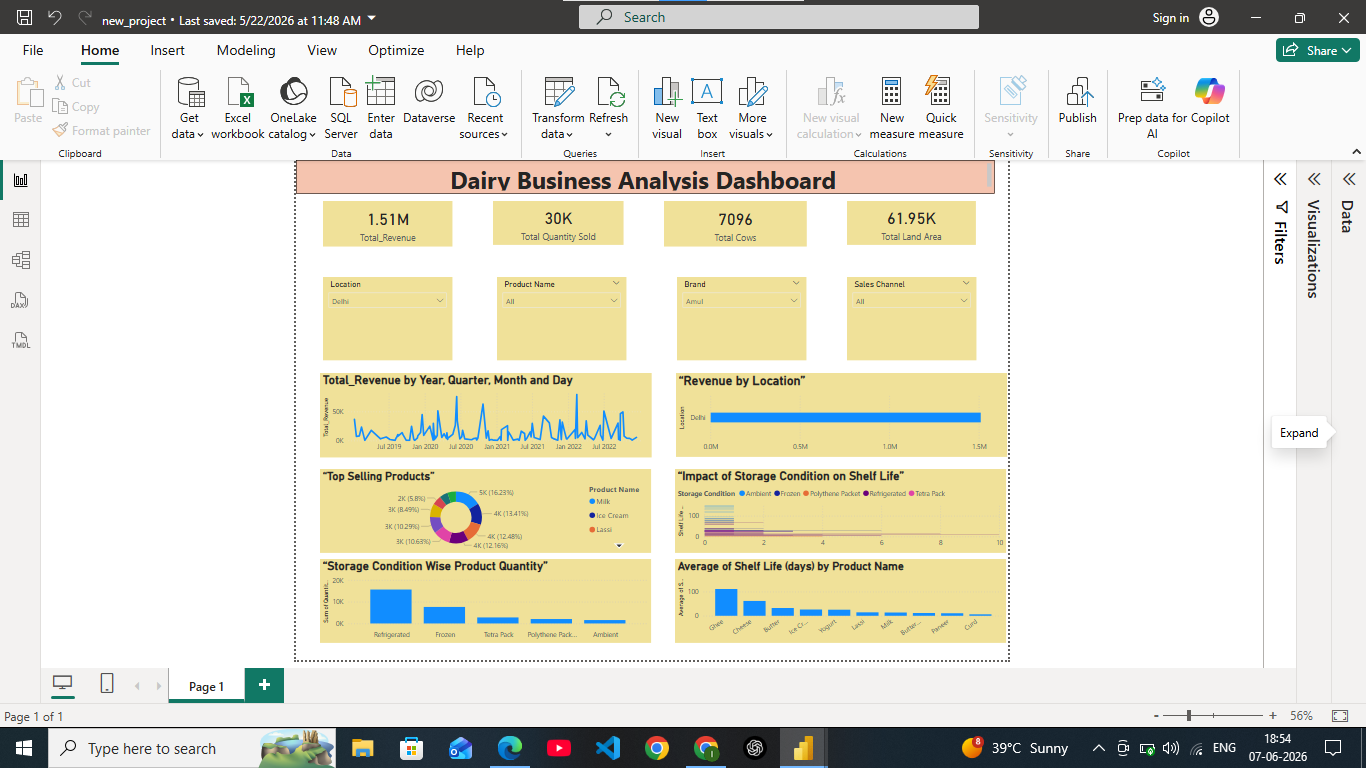

The page's visual inventory and layout, read from the dashboard file:
{"tool":"powerbi","page":{"name":"Page 1","canvas":[1280,900],"ordinal":0},"visuals":[{"type":"card","fields":{"Values":["dairy_dataset.Total_Revenue"]},"box":[48.7,73.9,233.5,82.3],"z":0},{"type":"card","fields":{"Values":["dairy_dataset.Total Quantity Sold"]},"box":[354.4,73.9,235.2,79],"z":1000},{"type":"card","fields":{"Values":["dairy_dataset.Total Cows"]},"box":[661.8,73.9,257,82.3],"z":2000},{"type":"card","fields":{"Values":["dairy_dataset.Total Land Area"]},"box":[991.1,73.9,231.8,79],"z":3000},{"type":"slicer","fields":{"Values":["dairy_dataset.Location"]},"box":[48.7,210,233.5,149.5],"z":4000},{"type":"slicer","fields":{"Values":["dairy_dataset.Product Name"]},"box":[361.2,210,233.5,149.5],"z":5000},{"type":"slicer","fields":{"Values":["dairy_dataset.Brand"]},"box":[685.4,210,233.5,149.5],"z":6000},{"type":"slicer","fields":{"Values":["dairy_dataset.Sales Channel"]},"box":[991.1,210,233.5,149.5],"z":7000},{"type":"lineChart","fields":{"Y":["dairy_dataset.Total_Revenue"],"Category":["dairy_dataset.Date.Variation.Date Hierarchy.Year","dairy_dataset.Date.Variation.Date Hierarchy.Quarter","dairy_dataset.Date.Variation.Date Hierarchy.Month","dairy_dataset.Date.Variation.Date Hierarchy.Day"]},"box":[43.3,383.3,596.7,151.7],"z":8000},{"type":"clusteredBarChart","title":"“Revenue by Location”","fields":{"Category":["dairy_dataset.Location"],"Y":["dairy_dataset.Total_Revenue"]},"box":[683.7,383,596.3,151.2],"z":9000},{"type":"donutChart","title":"“Top Selling Products”","fields":{"Y":["Sum(dairy_dataset.Quantity Sold (liters/kg))"],"Category":["dairy_dataset.Product Name"]},"box":[43.7,556,596.3,151.2],"z":10000},{"type":"textbox","box":[0,0,1258,61],"z":11000},{"type":"clusteredBarChart","title":"“Impact of Storage Condition on Shelf Life”","fields":{"Y":["CountNonNull(dairy_dataset.Product Name)"],"Category":["dairy_dataset.Shelf Life (days)"],"Series":["dairy_dataset.Storage Condition"]},"box":[682.2,556.2,595.8,151.2],"z":13001},{"type":"columnChart","title":"“Storage Condition Wise Product Quantity”","fields":{"Category":["dairy_dataset.Storage Condition"],"Y":["Sum(dairy_dataset.Quantity Sold (liters/kg))"]},"box":[44,718,596,151],"z":13002},{"type":"clusteredColumnChart","fields":{"Category":["dairy_dataset.Product Name"],"Y":["Avg(dairy_dataset.Shelf Life (days))"]},"box":[682.2,718.2,595.8,151.2],"z":13003}]}

Visuals, with their boxes on the page's 1280x900 design canvas (x1, y1, x2, y2). These are canvas units, not pixel positions in the 1366x768 screenshot, which may show the page scaled, cropped or inside an application window:
card - dairy_dataset.Total_Revenue: x1=49 y1=74 x2=282 y2=156
card - dairy_dataset.Total Quantity Sold: x1=354 y1=74 x2=590 y2=153
card - dairy_dataset.Total Cows: x1=662 y1=74 x2=919 y2=156
card - dairy_dataset.Total Land Area: x1=991 y1=74 x2=1223 y2=153
slicer - dairy_dataset.Location: x1=49 y1=210 x2=282 y2=360
slicer - dairy_dataset.Product Name: x1=361 y1=210 x2=595 y2=360
slicer - dairy_dataset.Brand: x1=685 y1=210 x2=919 y2=360
slicer - dairy_dataset.Sales Channel: x1=991 y1=210 x2=1225 y2=360
lineChart - dairy_dataset.Total_Revenue x dairy_dataset.Date.Variation.Date Hierarchy.Year: x1=43 y1=383 x2=640 y2=535
"“Revenue by Location”" clusteredBarChart: x1=684 y1=383 x2=1280 y2=534
"“Top Selling Products”" donutChart: x1=44 y1=556 x2=640 y2=707
textbox: x1=0 y1=0 x2=1258 y2=61
"“Impact of Storage Condition on Shelf Life”" clusteredBarChart: x1=682 y1=556 x2=1278 y2=707
"“Storage Condition Wise Product Quantity”" columnChart: x1=44 y1=718 x2=640 y2=869
clusteredColumnChart - dairy_dataset.Product Name x Avg(dairy_dataset.Shelf Life (days)): x1=682 y1=718 x2=1278 y2=869
